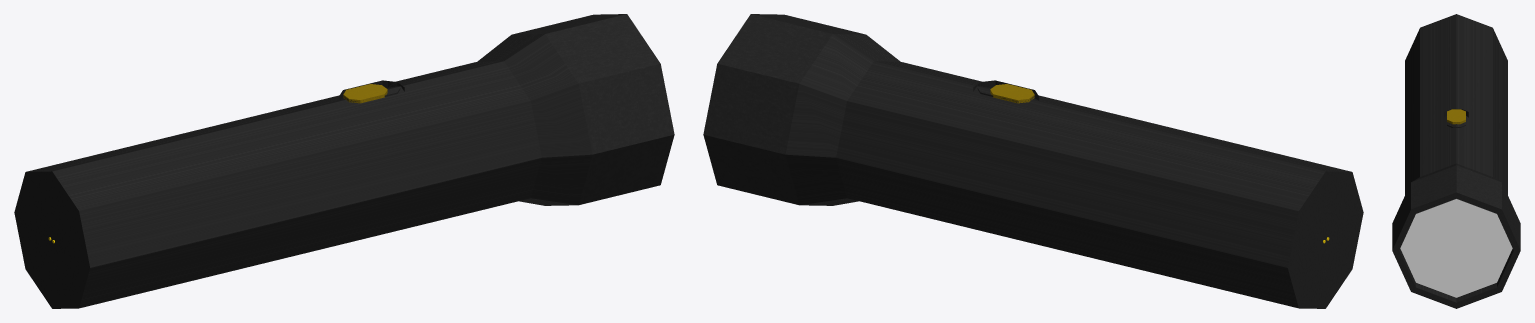
The model's file is Torch.fbx.
3 renders of one model, left to right at view 1: azimuth 30°, elevation 25°; view 2: azimuth 150°, elevation 25°; view 3: azimuth 270°, elevation 25°, orthographic. The views are drawn at different scales.
Parts seen in each view (by area): view 1: Torch Body, Switch; view 2: Torch Body, Switch; view 3: Torch Body, Lens, Switch.
Part boxes in pixels (left/top/right/bottom): Torch Body: left=14, top=14, right=674, bottom=308; Switch: left=343, top=84, right=387, bottom=103; Torch Body: left=703, top=14, right=1363, bottom=308; Switch: left=990, top=84, right=1034, bottom=103; Torch Body: left=1392, top=14, right=1520, bottom=308; Lens: left=1400, top=199, right=1512, bottom=297; Switch: left=1447, top=109, right=1465, bottom=124.
Bounding box in the file's own units: 701 × 200 × 200.
